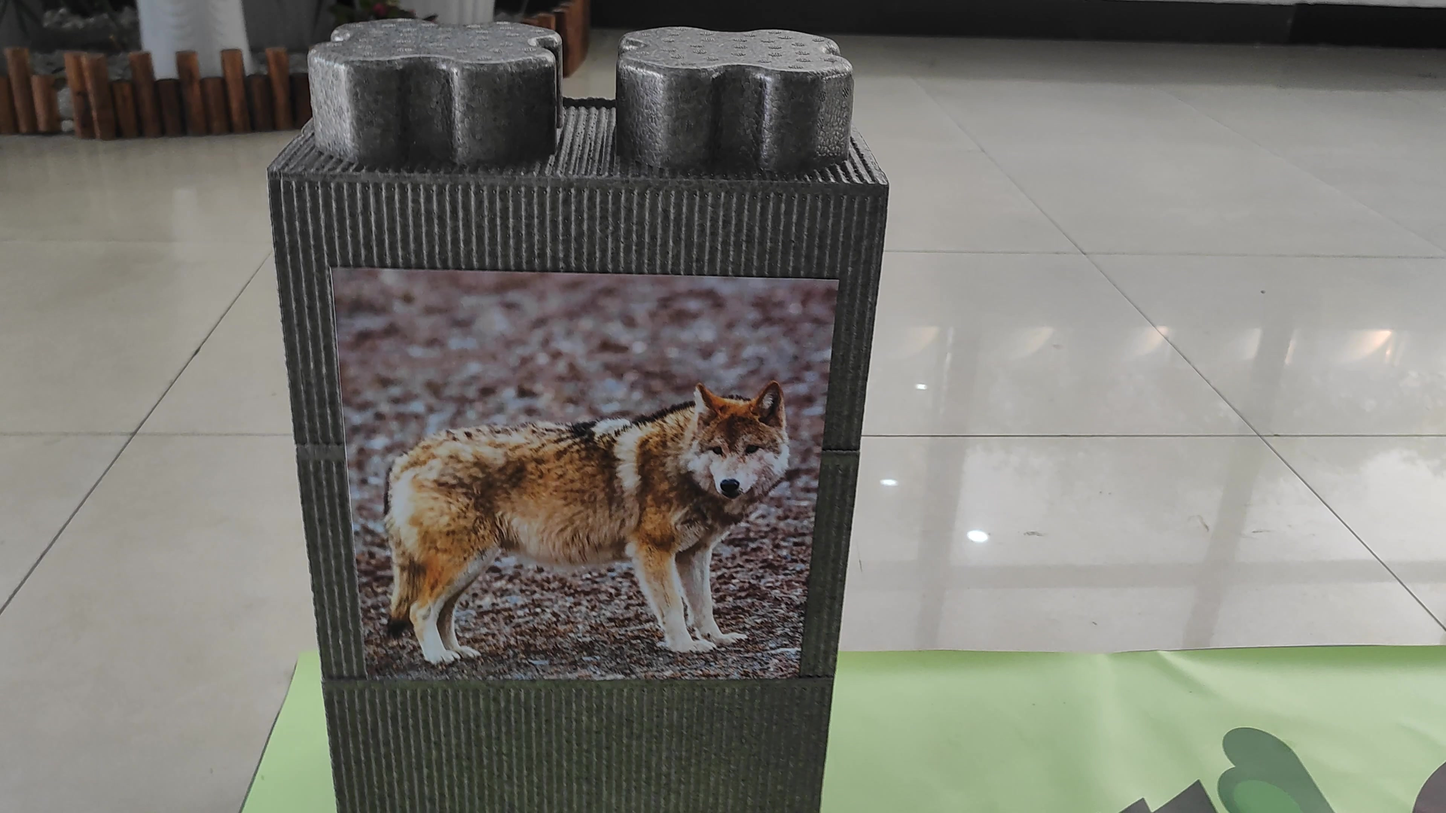wolf: (349, 293, 796, 689)
